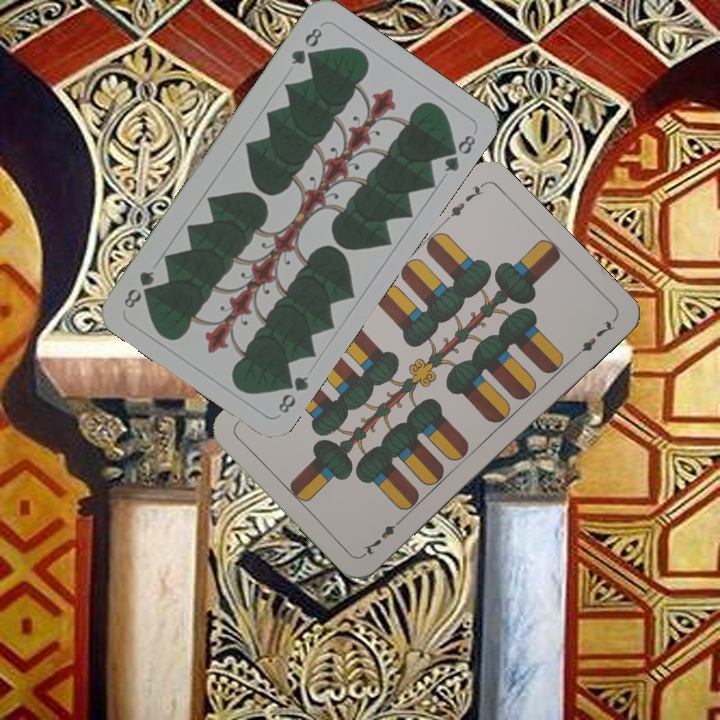E7: (440, 179, 487, 225), (359, 513, 407, 558)
G8: (274, 369, 312, 416), (287, 23, 325, 68)
